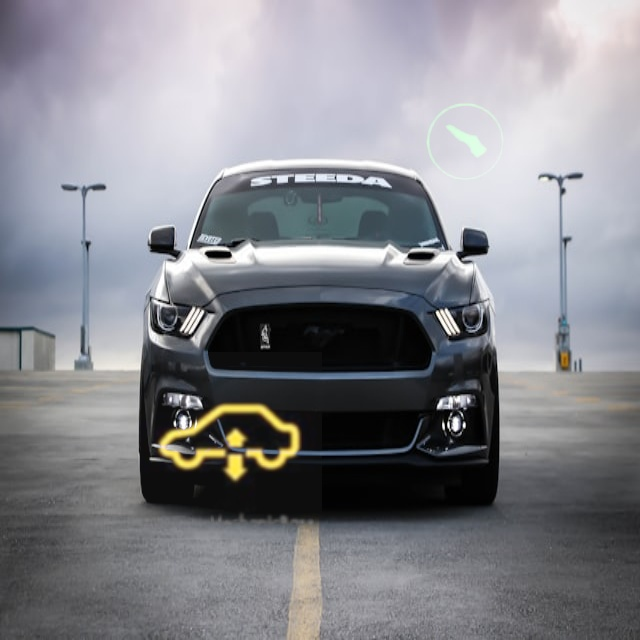symbol: (136, 352, 322, 538), (390, 64, 548, 222)
